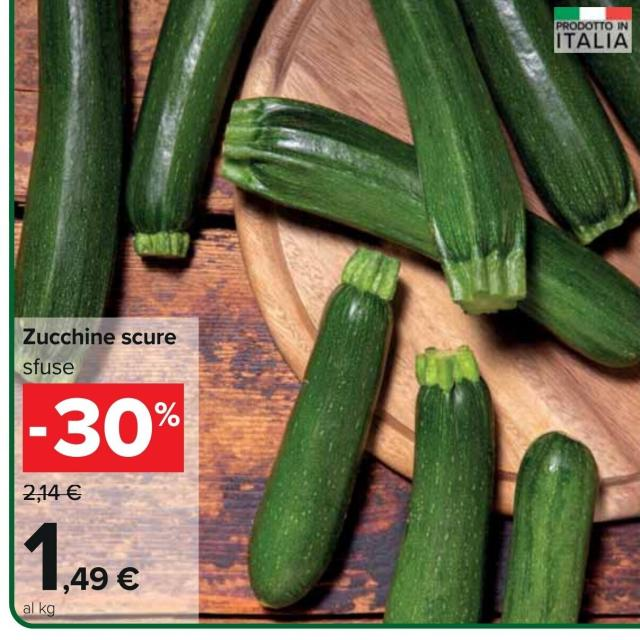Zucchini: (396, 340, 496, 627)
